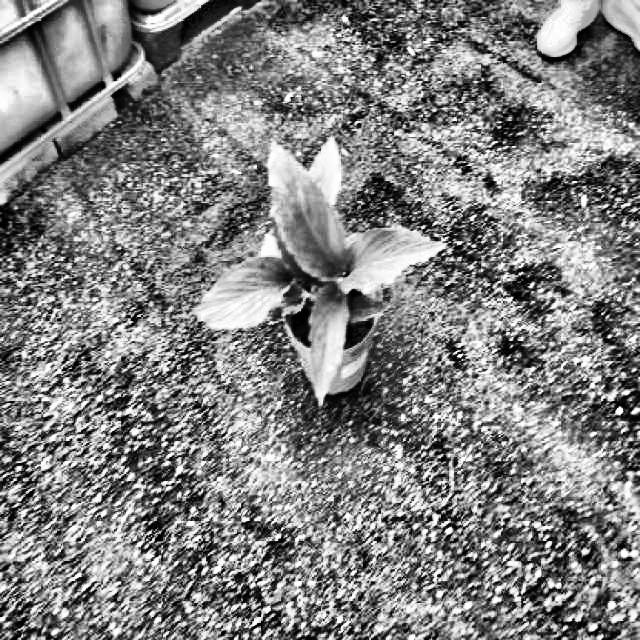plants: (190, 140, 444, 408)
